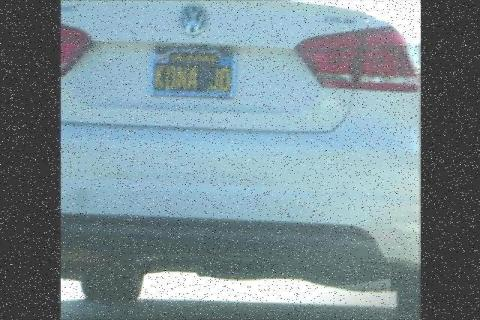LicensePlate: (153, 38, 236, 98)
